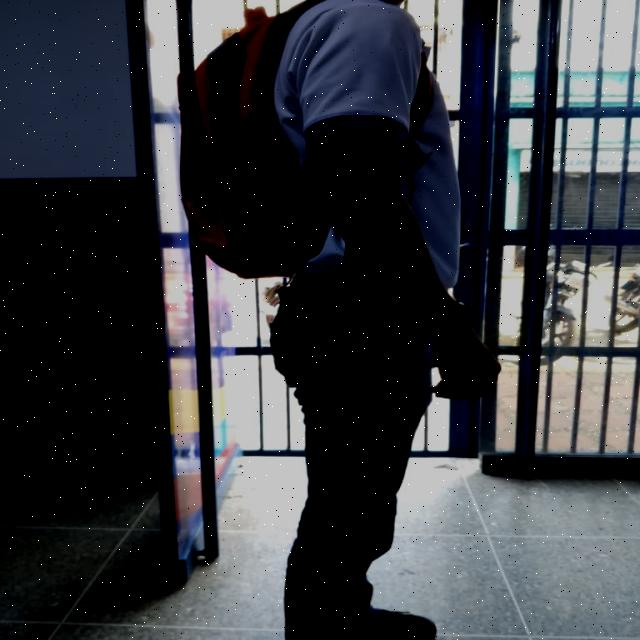uniforme_superior: (272, 0, 460, 289)
